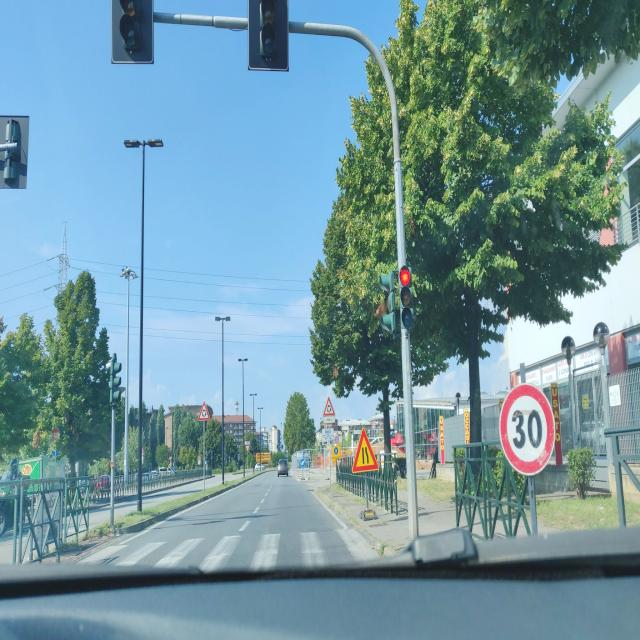car: (65, 475, 91, 509), (96, 474, 114, 498), (277, 457, 289, 477)
